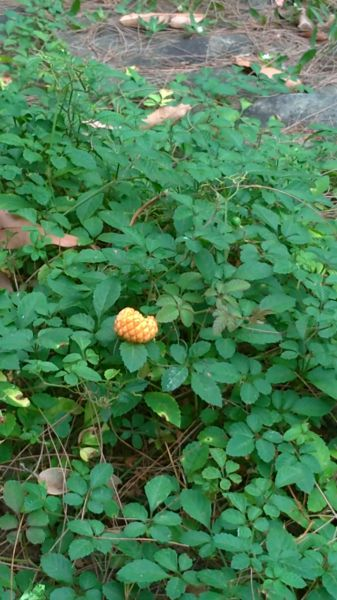eggs: (110, 304, 161, 349)
